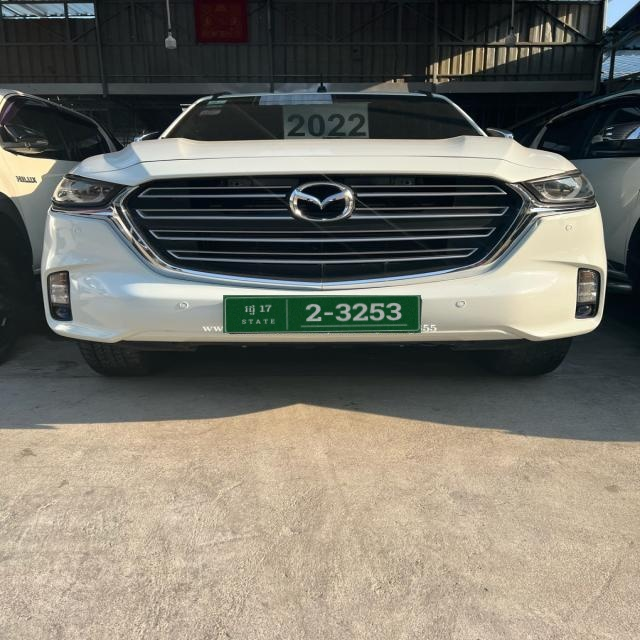Plate Number: (223, 296, 422, 334)
